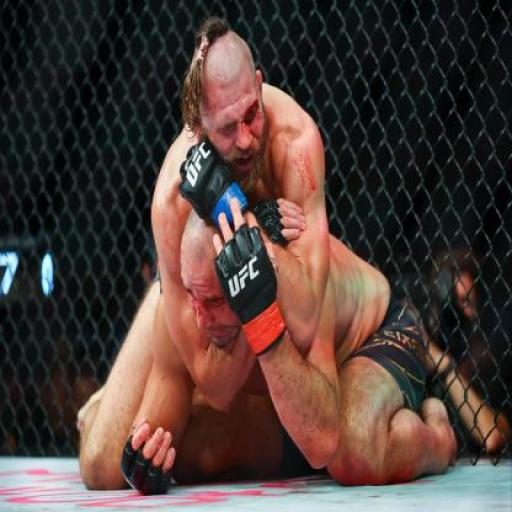Fighting: (80, 20, 510, 494)
